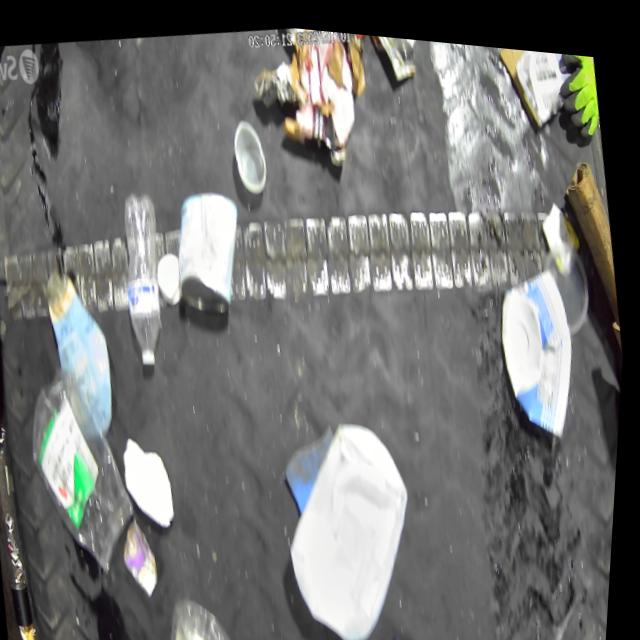can: (166, 175, 259, 322), (125, 636, 185, 640)
milk_jug: (269, 401, 444, 640)
plastic_bottle: (109, 185, 181, 372)
